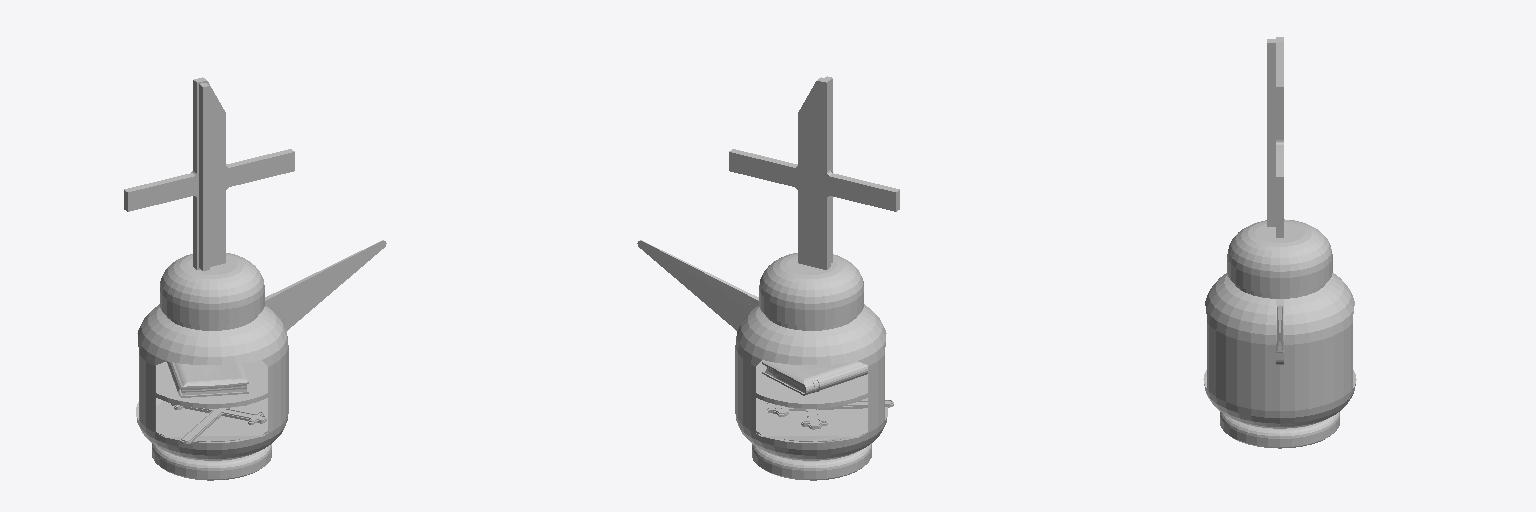
The model's file is SetA_Misc_09.obj.
3 renders of one model, left to right at view 1: azimuth 30°, elevation 25°; view 2: azimuth 150°, elevation 25°; view 3: azimuth 270°, elevation 25°, orthographic.
Visible parts, largest first — view 1: SetA_Misc_09; view 2: SetA_Misc_09; view 3: SetA_Misc_09.
Part boxes in pixels (x1,y1,x2,y2): SetA_Misc_09: (124, 77, 386, 480); SetA_Misc_09: (637, 76, 899, 480); SetA_Misc_09: (1203, 37, 1356, 448).
Size of the model in its own units: 0.3017 by 0.4193 by 0.1536.